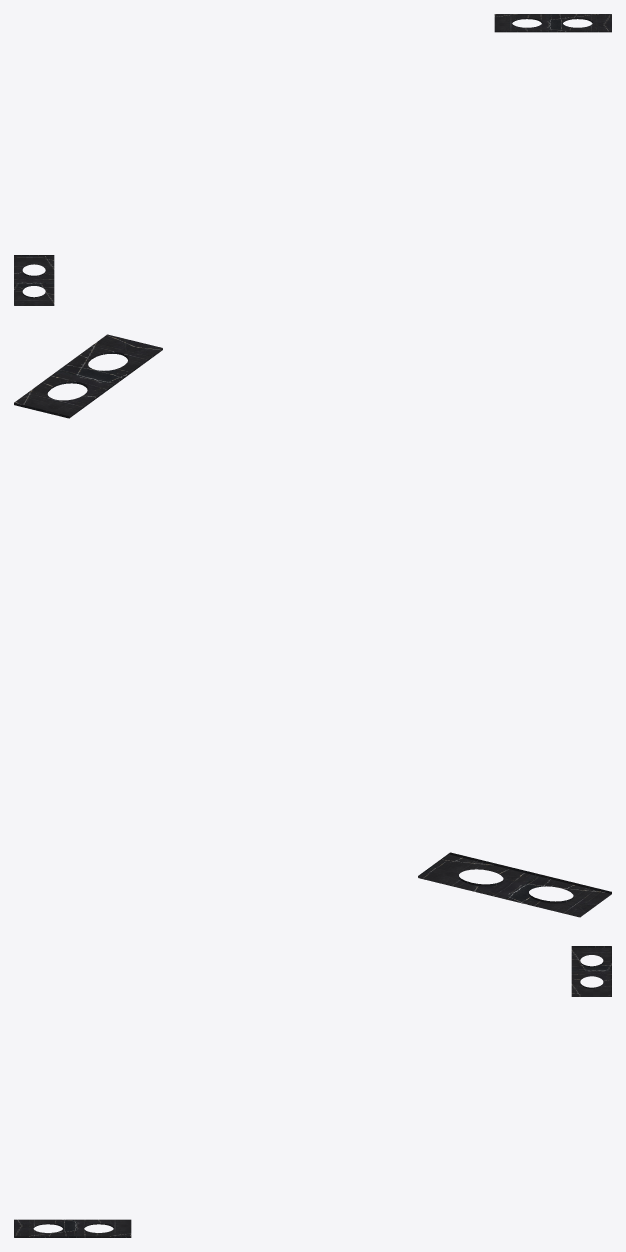
The model's file is Countertops_Quartz_Et_Noir.glb.
3 renders of one model, top to bottom at view 1: azimuth 90°, elevation 25°; view 2: azimuth 150°, elevation 25°; view 3: azimuth 270°, elevation 25°, orthographic. The views are drawn at different scales.
Visible parts, largest first — view 1: Countertop_quartz_et_noir; view 2: Countertop_quartz_et_noir; view 3: Countertop_quartz_et_noir.
Part boxes in pixels (box(x1,y1,x2,y2)): Countertop_quartz_et_noir: box(14, 14, 611, 305); Countertop_quartz_et_noir: box(14, 334, 611, 917); Countertop_quartz_et_noir: box(14, 946, 611, 1237).
Size of the model in its own units: 17 by 0.04 by 14.8.
1 material, 1 textured.
